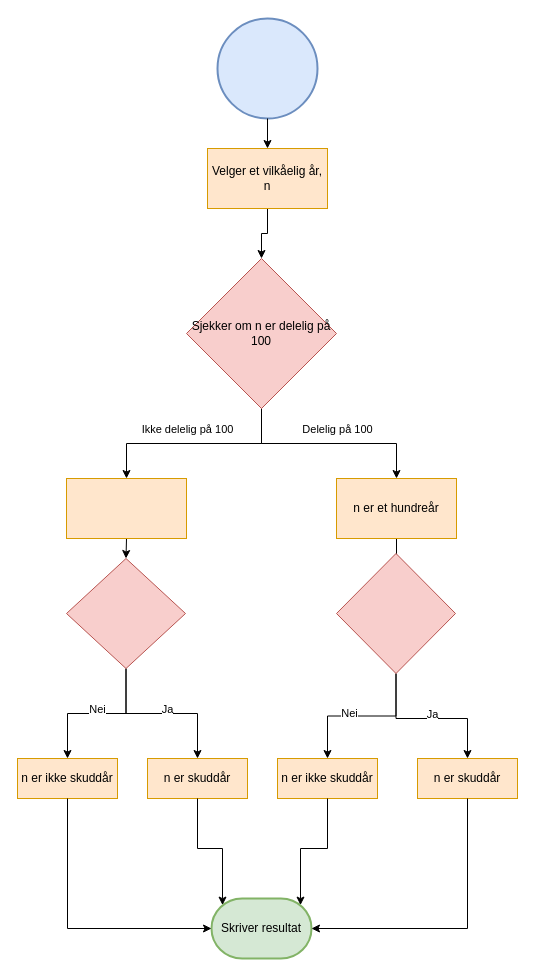
Some shapes in this 535 by 976 pixel diagram are drawn without their labels. The shapes that lost their labels are listed below. From the top down, each one's centre as x and y in pixels, then its label:
At pixel 267 68: "Start".
At pixel 126 508: "n er ikke et hundreår".
At pixel 126 613: "Sjekker om n er delelig på 4".
At pixel 396 613: "Sjekker om n er delelig på 400".
